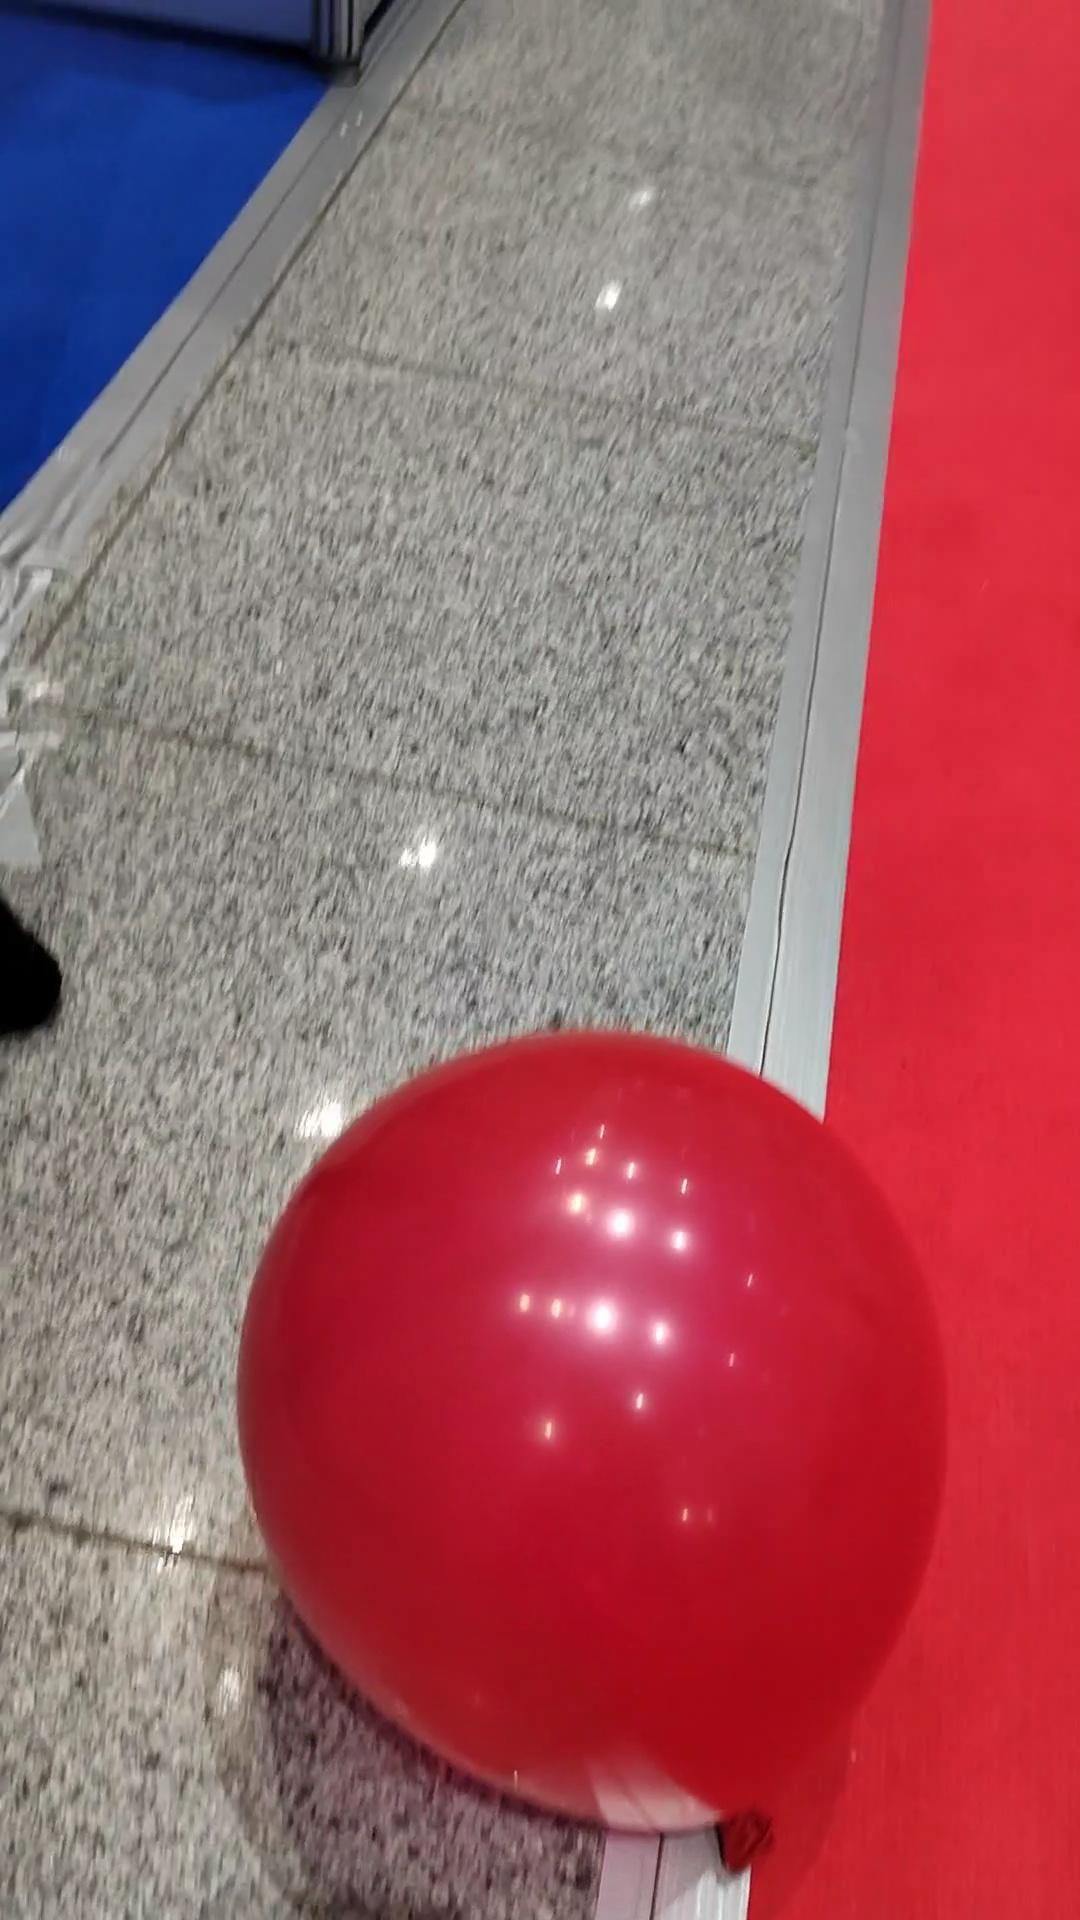red: (219, 1026, 961, 1838)
